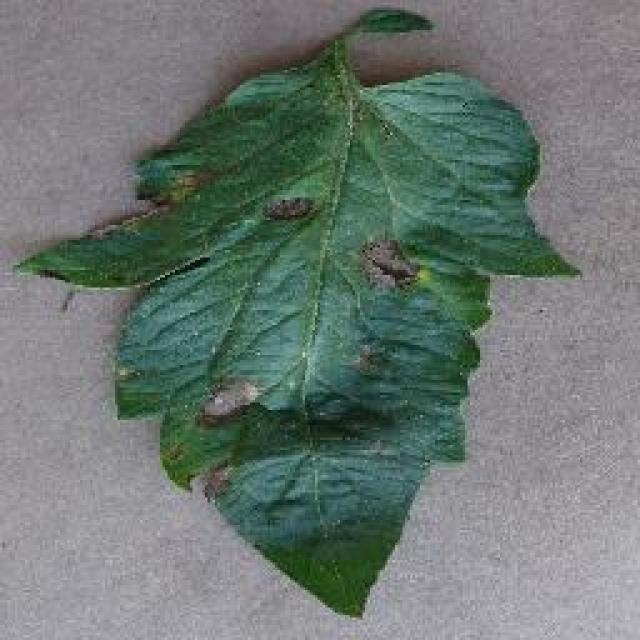Tomato___Early_blight: (7, 6, 581, 622)
